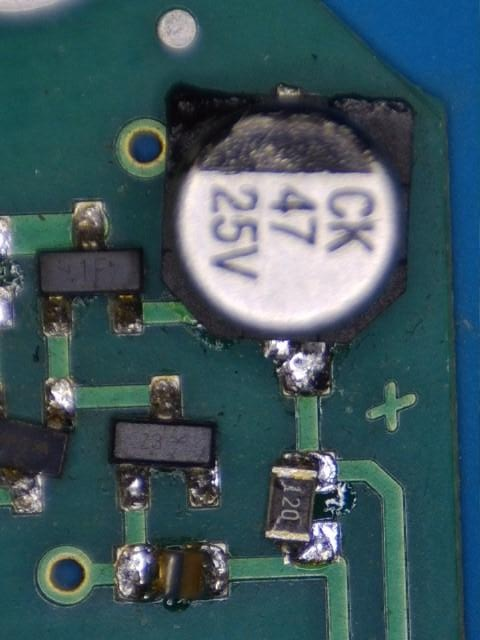pcb_defect: (160, 85, 414, 396), (0, 378, 76, 515), (264, 452, 339, 565), (116, 544, 227, 602)
